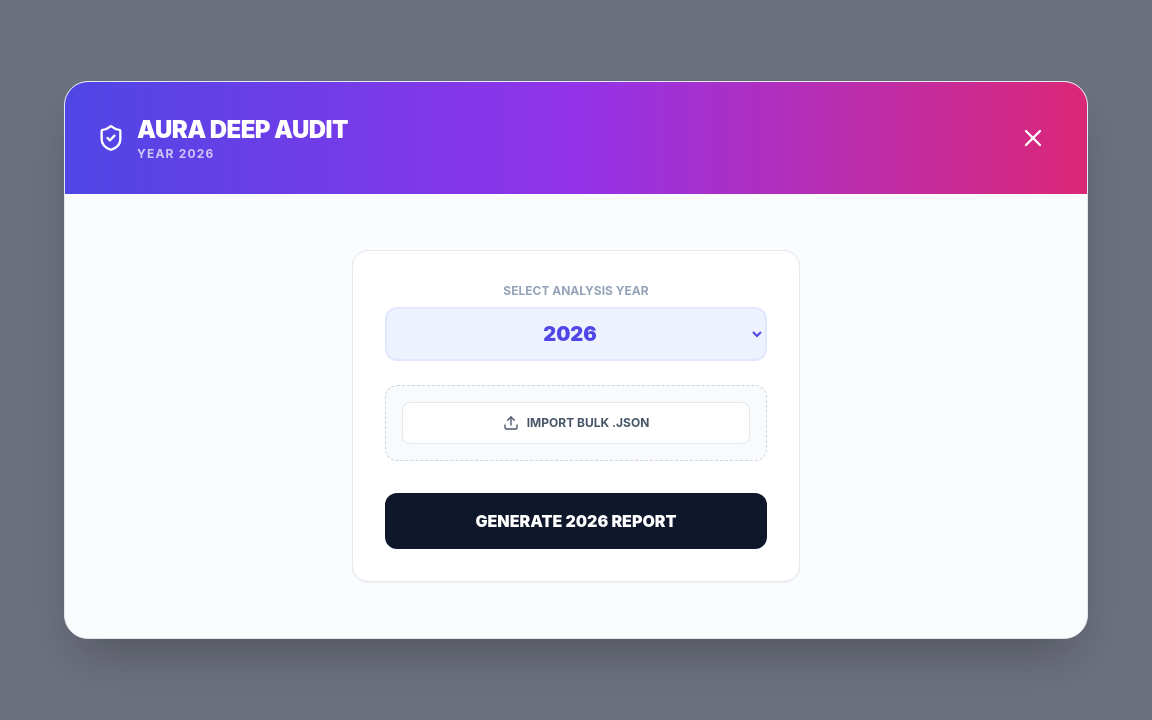
AN2 — the analysis is generated over the TEAM's own people › sends the team's own members, and none of the old hardcoded names
Click the button "Generate 2026 Report": [576, 521] box [385, 493, 767, 549]
Wait 3000 ms
(page scrolled)
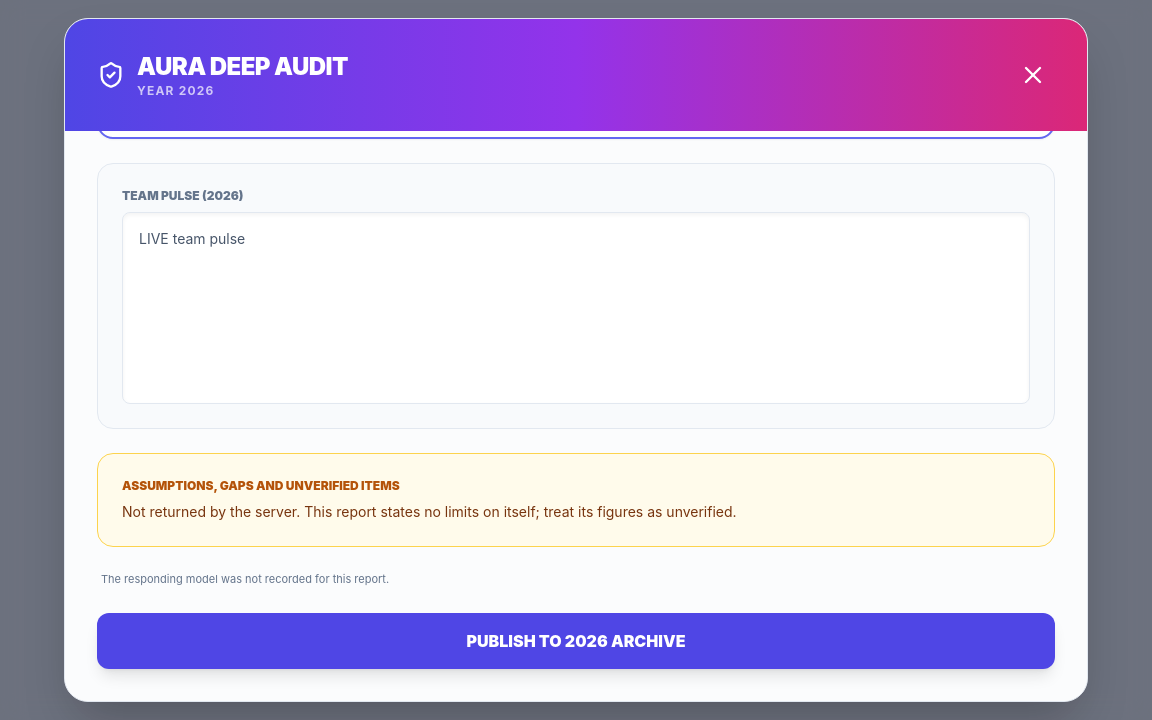
Check: the button "PUBLISH TO 2026 ARCHIVE" is shown, box [97, 613, 1055, 669]
